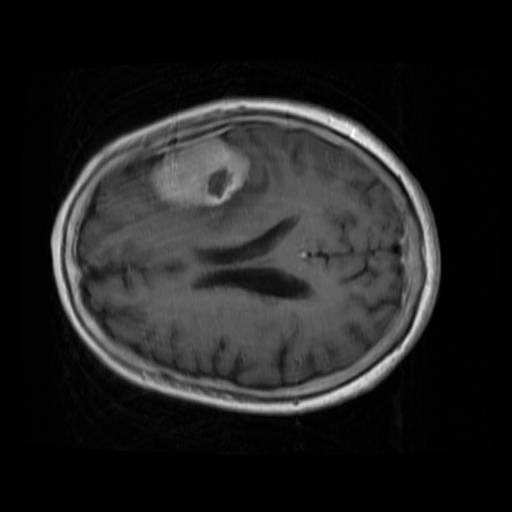meningioma: (149, 136, 249, 207)
